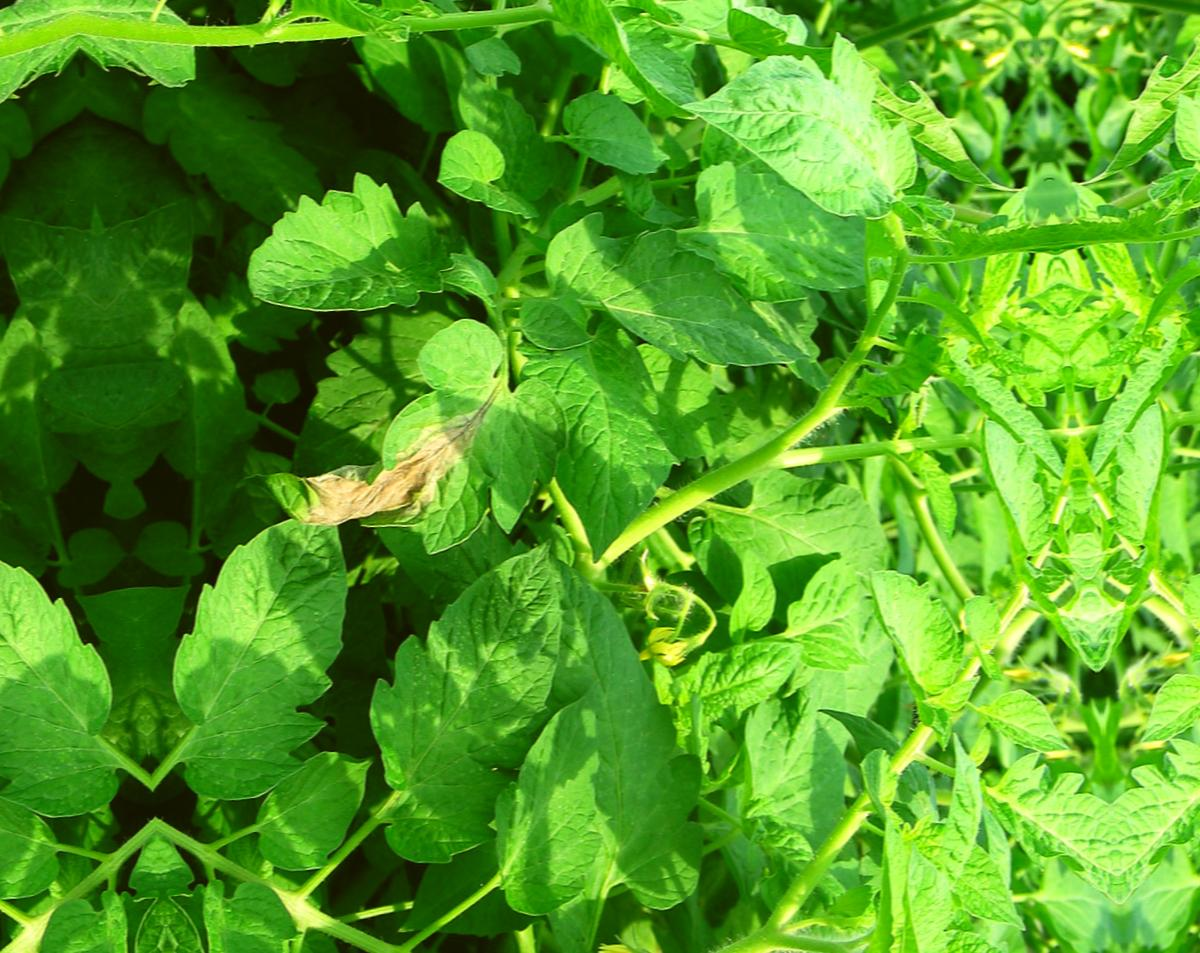Tomato leaf: (321, 541, 598, 869), (509, 190, 828, 412), (149, 508, 358, 813), (229, 157, 487, 330), (638, 141, 902, 310), (461, 707, 642, 912), (243, 740, 387, 882), (872, 549, 961, 723), (577, 0, 783, 33)
Tomato leaf late blight: (313, 325, 548, 560)
